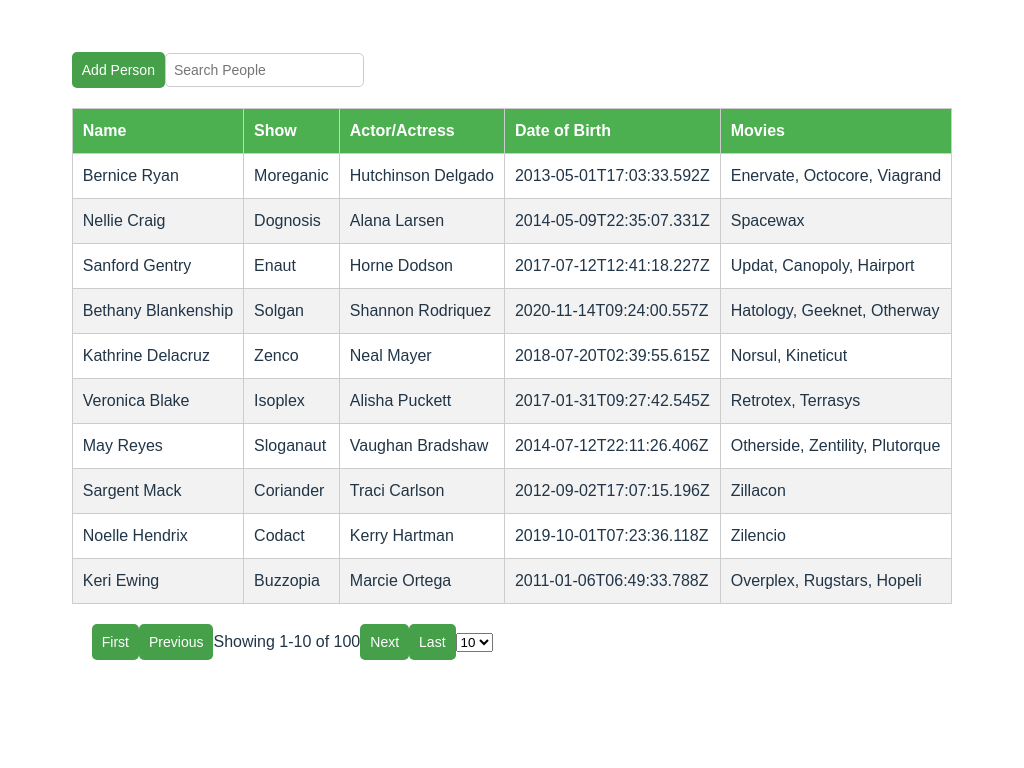
Test: People › Pagination › should go the last page, and not the next page
Expected: the table is shown, left=72, top=108, right=952, bottom=604
Expected: the text "Showing 1-10 of 100" is shown, left=214, top=633, right=360, bottom=650
Click the button "Last".
click(432, 642)  # box left=409, top=624, right=456, bottom=660
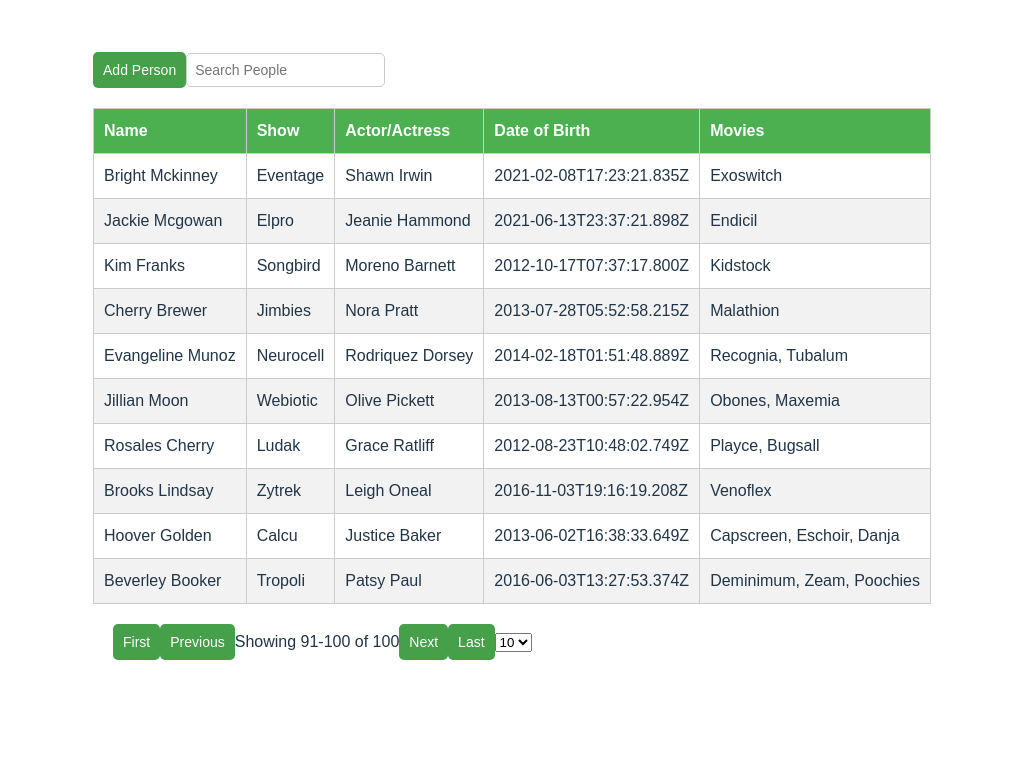
Result: the text "Showing 91-100 of 100" is shown at left=235, top=633, right=399, bottom=650
Result: the button "Next" is disabled at left=399, top=624, right=448, bottom=660
Result: the button "Last" is disabled at left=448, top=624, right=495, bottom=660
